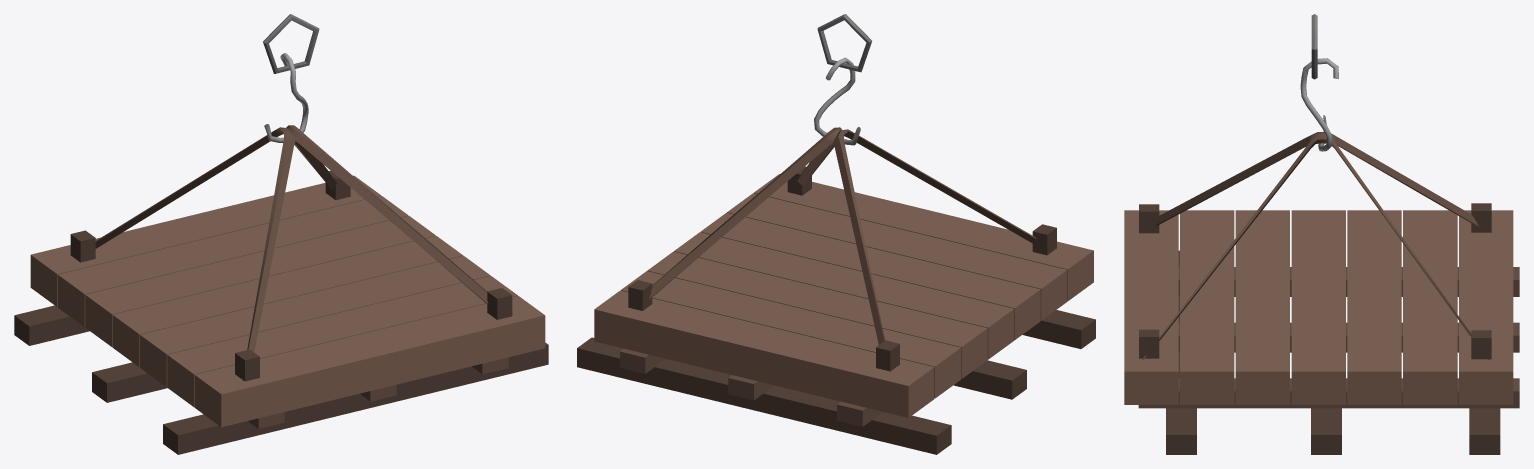
3 views of the same model, side by side, from view 1: azimuth 30°, elevation 25°; view 2: azimuth 150°, elevation 25°; view 3: azimuth 270°, elevation 25° (orthographic). The views are drawn at different scales.
Parts seen in each view (by area): view 1: base1; view 2: base1; view 3: base1.
Boxes of the visible parts, <box> form: base1: <box>14,14,548,454</box>; base1: <box>577,14,1095,454</box>; base1: <box>1124,14,1519,454</box>.
Size of the model in its own units: 2.29 by 2.02 by 2.08.
